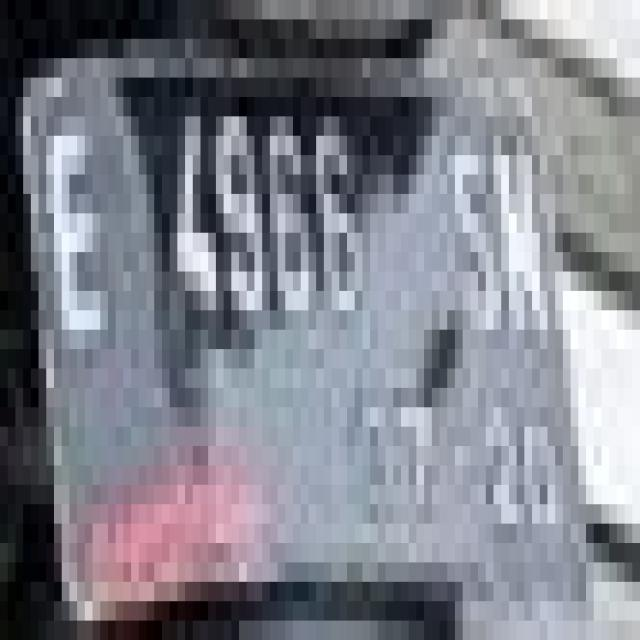plate: (15, 0, 594, 621)
